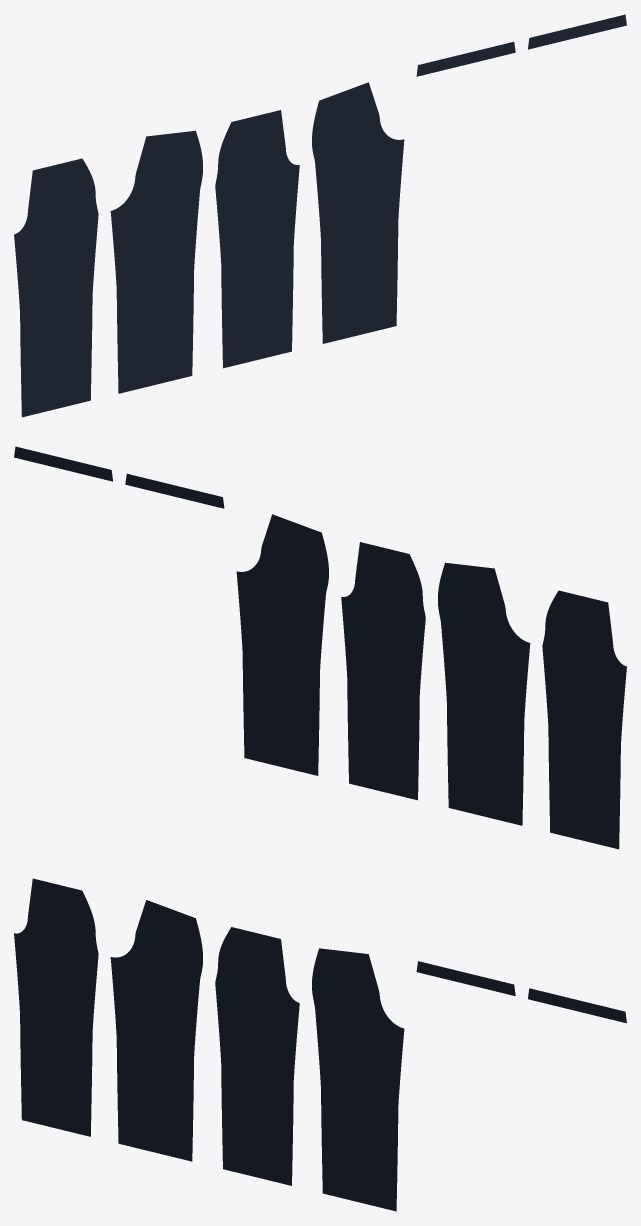
The model's file is jean-pierna-ancha-parche-talla-M.glb.
3 views of the same model, one above another, from view 1: azimuth 30°, elevation 25°; view 2: azimuth 150°, elevation 25°; view 3: azimuth 330°, elevation 25° (orthographic).
Parts seen in each view (by area): view 1: patron-espalda-der, patron-espalda-izq, patron-delantero-izq, patron-delantero-der, patron-pretina-delantera, patron-pretina-trasera; view 2: patron-espalda-der, patron-espalda-izq, patron-delantero-izq, patron-delantero-der, patron-pretina-delantera, patron-pretina-trasera; view 3: patron-espalda-der, patron-espalda-izq, patron-delantero-der, patron-delantero-izq, patron-pretina-trasera, patron-pretina-delantera.
Part boxes in pixels (x1,y1,x2,y2): patron-espalda-der: (312, 82, 404, 343); patron-espalda-izq: (110, 130, 202, 393); patron-delantero-izq: (14, 158, 98, 417); patron-delantero-der: (215, 110, 299, 368); patron-pretina-delantera: (416, 41, 515, 76); patron-pretina-trasera: (528, 14, 626, 49); patron-espalda-der: (236, 514, 328, 775); patron-espalda-izq: (438, 562, 530, 825); patron-delantero-izq: (542, 590, 626, 849); patron-delantero-der: (341, 542, 425, 800); patron-pretina-delantera: (125, 473, 224, 508); patron-pretina-trasera: (14, 446, 112, 481); patron-espalda-der: (312, 948, 404, 1211); patron-espalda-izq: (110, 900, 202, 1161); patron-delantero-der: (215, 927, 299, 1185); patron-delantero-izq: (14, 878, 98, 1136); patron-pretina-trasera: (528, 988, 626, 1023); patron-pretina-delantera: (416, 961, 515, 995).
Bounding box in the file's own units: 2.53 × 1.01 × 0.
